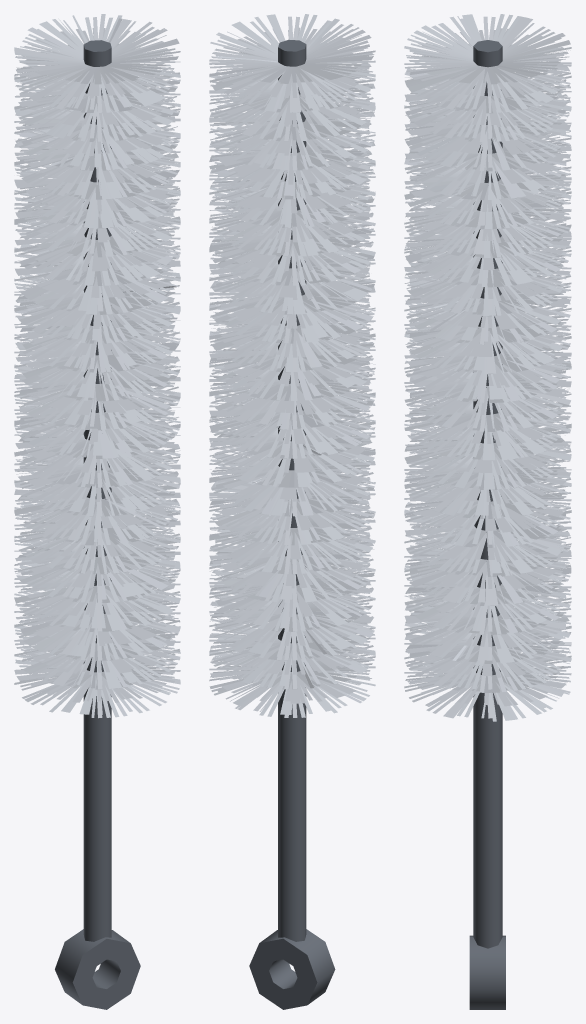
Rendered from misc_brush_high_poly.fbx.
3 renders of one model, left to right at view 1: azimuth 30°, elevation 25°; view 2: azimuth 150°, elevation 25°; view 3: azimuth 270°, elevation 25°, orthographic.
Parts seen in each view (by area): view 1: misc_brush_high_poly; view 2: misc_brush_high_poly; view 3: misc_brush_high_poly.
Part boxes in pixels (x1=…): misc_brush_high_poly: x1=14, y1=14, x2=180, y2=1009; misc_brush_high_poly: x1=209, y1=14, x2=375, y2=1009; misc_brush_high_poly: x1=404, y1=14, x2=571, y2=1009.
Bounding box in the file's own units: 306 × 1941 × 306.
Materials: 1 (1 with a texture image).
